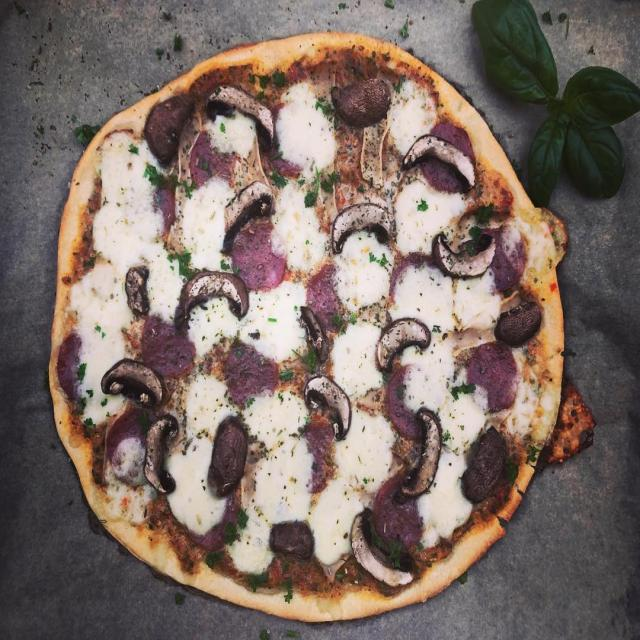basil: (471, 0, 640, 209)
mushrooms: (351, 509, 417, 586), (206, 86, 275, 158), (173, 274, 250, 336), (405, 136, 474, 192), (222, 184, 273, 256), (99, 359, 166, 413), (402, 414, 443, 500), (377, 321, 433, 378), (331, 206, 396, 254), (306, 377, 352, 441), (147, 416, 182, 496), (434, 233, 496, 276), (125, 265, 151, 324)
pepperoni: (458, 427, 514, 507), (463, 343, 520, 416), (219, 341, 280, 406), (147, 94, 197, 173), (205, 416, 252, 500), (235, 226, 289, 295), (375, 477, 426, 547), (328, 79, 393, 131), (494, 284, 544, 350), (191, 127, 241, 193), (144, 320, 194, 383), (269, 521, 318, 569), (310, 264, 341, 328)
pizza: (45, 31, 594, 626)
